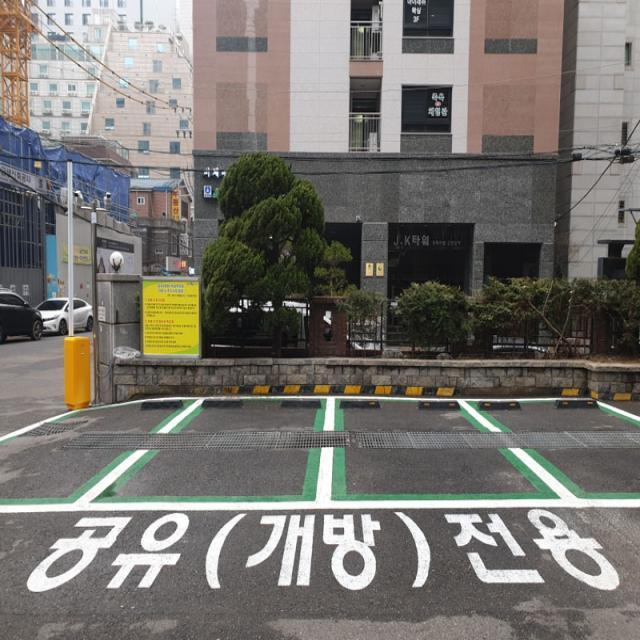Vacant: (0, 396, 183, 513), (488, 392, 640, 512), (340, 394, 486, 506), (182, 401, 330, 511)
